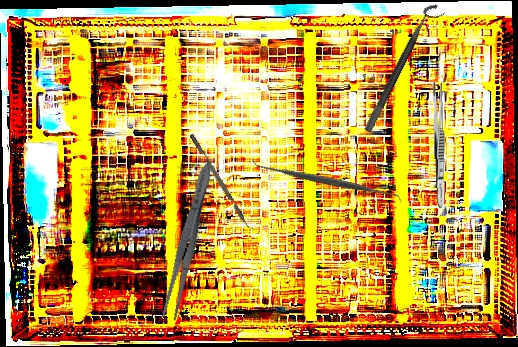Chopper: (189, 130, 257, 234)
Dressing Forceps: (158, 161, 218, 323), (430, 81, 448, 209)
Fixation Ring: (362, 0, 448, 139)
Spatula Surgical: (250, 104, 403, 257)
